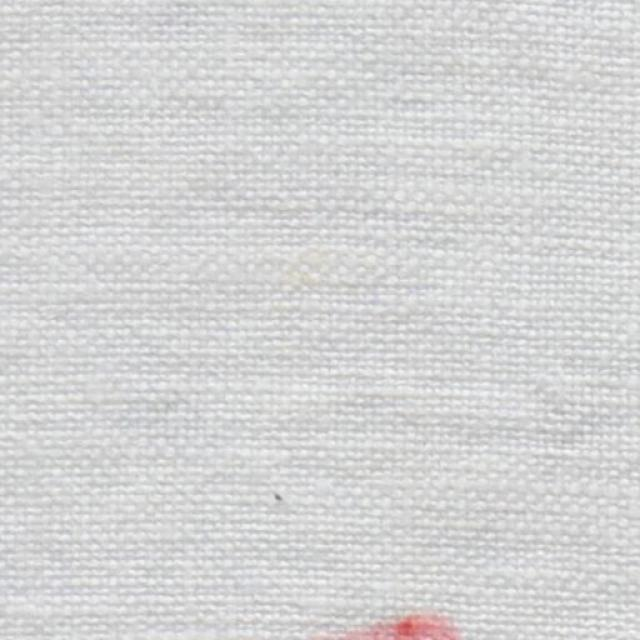Stain: (339, 616, 461, 639)
